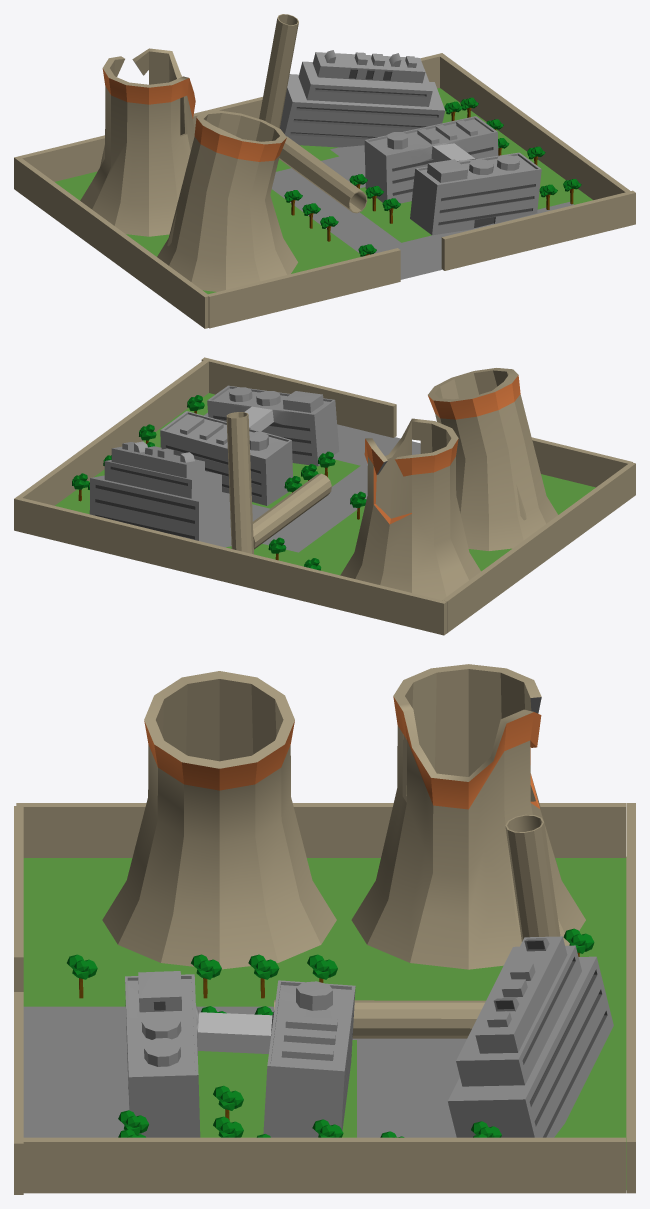
File: KGMcentrales0.fbx
3 views of the same model, one above another, from view 1: azimuth 30°, elevation 25°; view 2: azimuth 150°, elevation 25°; view 3: azimuth 270°, elevation 25° (orthographic). The views are drawn at different scales.
Visible parts, largest first — view 1: Cheminée, Cheminée1, Bâtiment_2, Sol, pCube8, pCube5, pCube4, pCube2, pCube6, pCube7, pCylinder3, pCylinder2; view 2: Cheminée1, pCube7, Cheminée, Bâtiment_2, Sol, pCube8, pCube5, pCube6, pCube4, pCylinder3, pCube2, pCylinder2; view 3: Sol, Cheminée, Cheminée1, pCube6, Bâtiment_2, pCube8, pCube5, pCylinder2, pCylinder3, pCube7, pCube4, pCube2.
Part boxes in pixels (x1,y1,x2,y2): Cheminée: (157,110,297,291); Cheminée1: (80,48,195,236); Bâtiment_2: (364,116,541,235); Sol: (55,88,592,294); pCube8: (280,50,445,147); pCube5: (17,158,208,328); pCube4: (441,190,635,270); pCube2: (207,248,400,328); pCube6: (440,55,632,199); pCube7: (14,53,444,190); pCylinder3: (259,14,298,128); pCylinder2: (279,136,367,213); Cheminée1: (340,418,480,600); pCube7: (14,496,446,635); Cheminée: (428,368,557,550); Bâtiment_2: (160,385,339,505); Sol: (55,393,595,575); pCube8: (89,441,231,547); pCube5: (442,462,635,633); pCube6: (17,359,208,505); pCube4: (201,357,396,437); pCylinder3: (226,412,253,554); pCube2: (531,437,632,487); pCylinder2: (253,473,331,549); Sol: (23,857,626,1189); Cheminée: (102,671,336,969); Cheminée1: (351,664,585,969); pCube6: (16,1137,625,1193); Bâtiment_2: (125,971,355,1137); pCube8: (447,936,613,1137); pCube5: (16,803,625,857); pCylinder2: (274,1000,485,1038); pCylinder3: (505,814,560,941); pCube7: (626,803,635,1193); pCube4: (14,992,23,1194); pCube2: (14,806,23,991).
Size of the model in its own units: 1967 by 688 by 1518.
